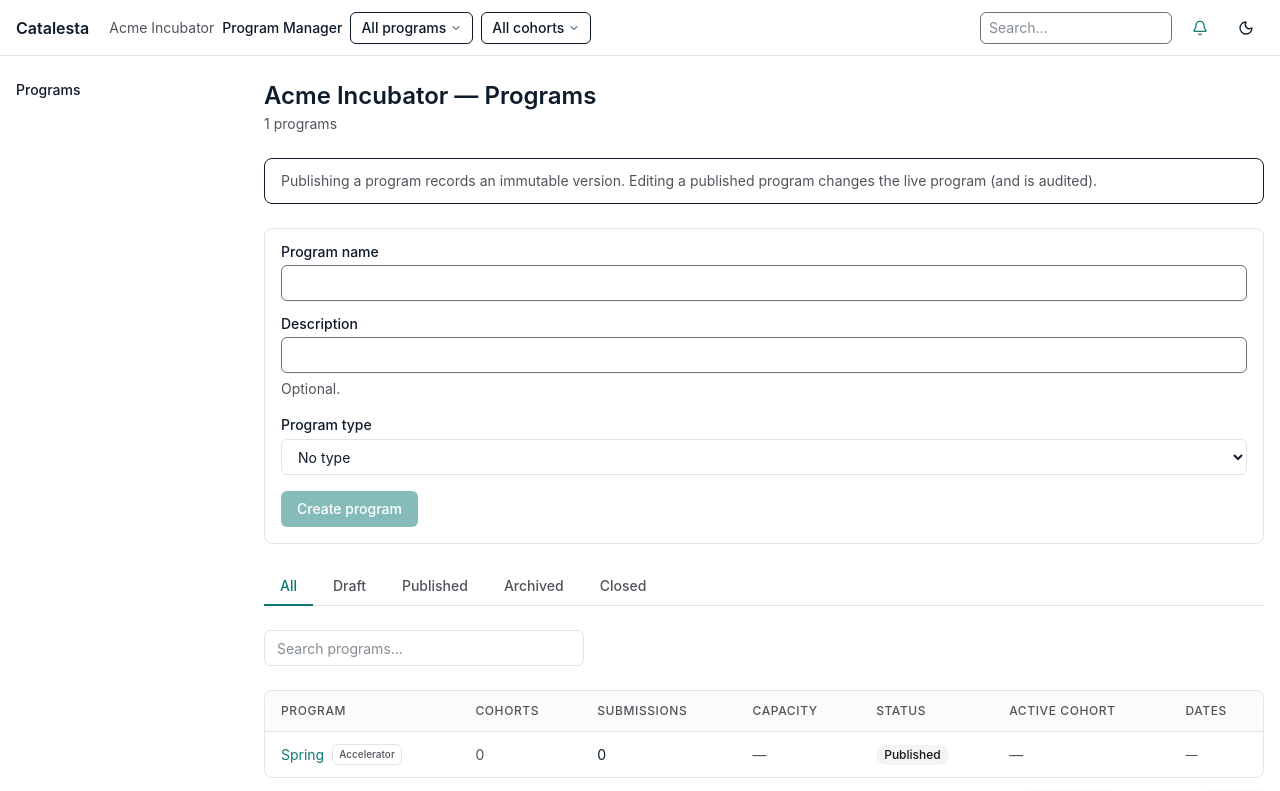
Test case: searches by name
Check: the text "Spring" is shown, box [281,746,324,762]
Type "zzz" into the search field labelled "Search programs…" at (424, 648), box [264,630,584,666]
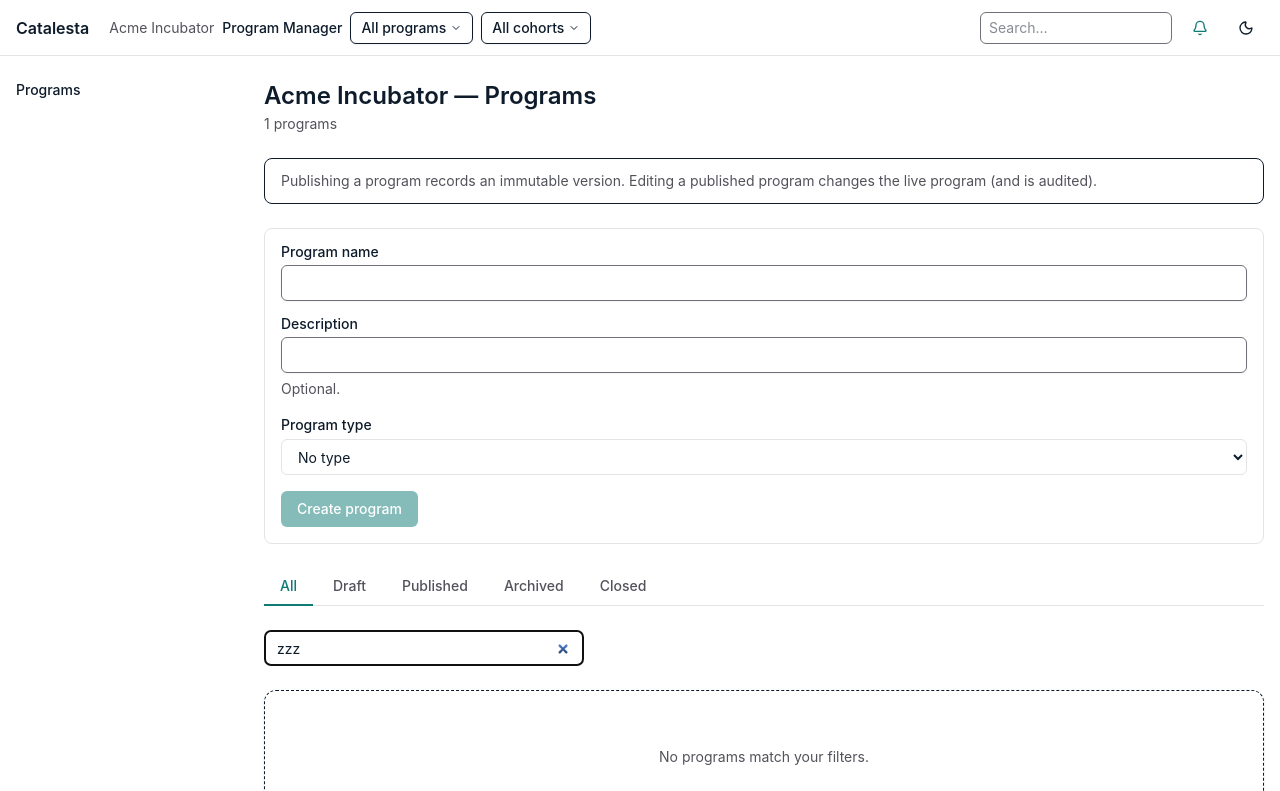
Check: the link "Spring" is gone
